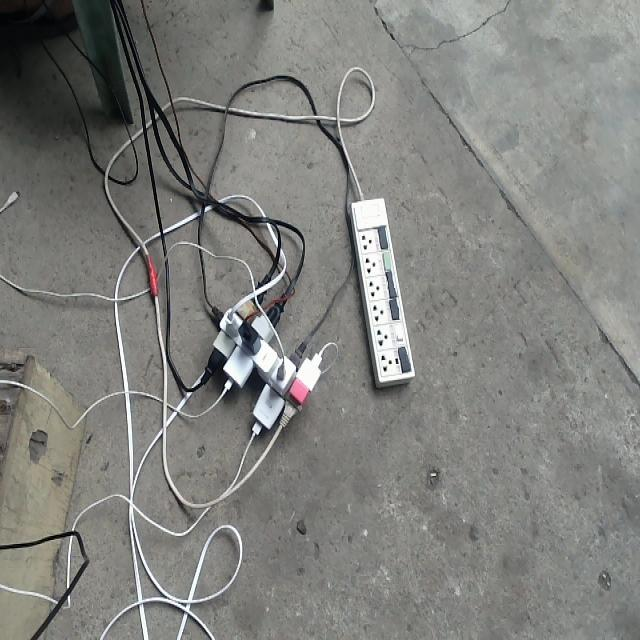-: (200, 272, 324, 436)
